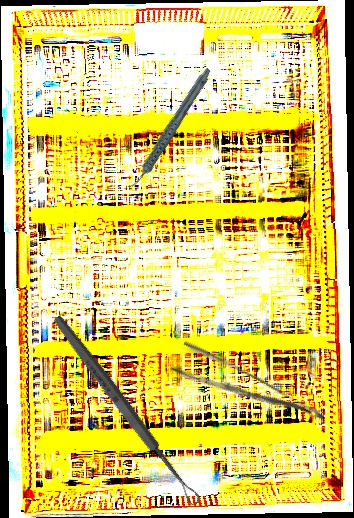Dressing Forceps: (169, 338, 327, 444)
Handpiece: (105, 66, 233, 191)
Surgical Spoon: (50, 312, 203, 509)
